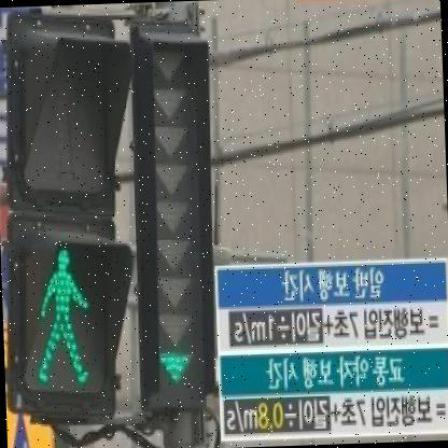silver: (14, 231, 116, 408)
